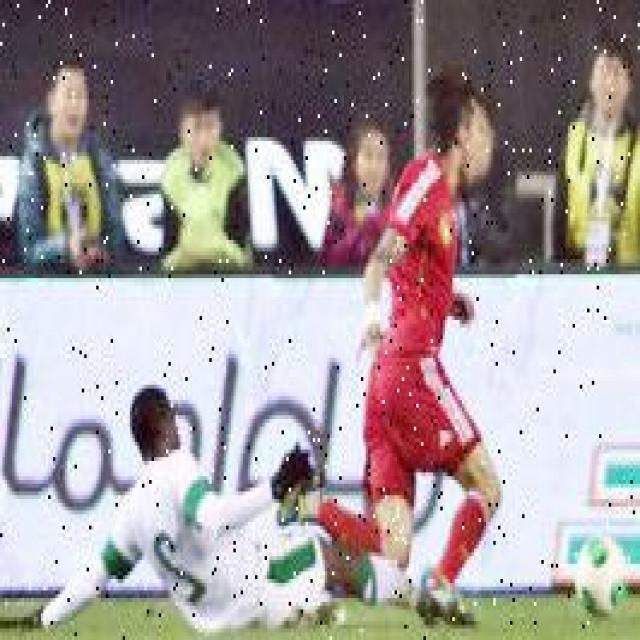fall: (24, 381, 421, 609)
